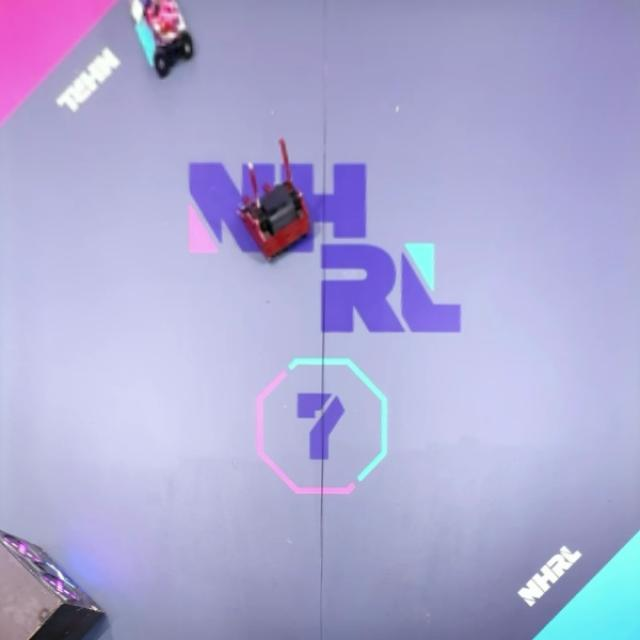housebot: (0, 527, 107, 637)
robot: (239, 139, 311, 262), (130, 0, 195, 77)
